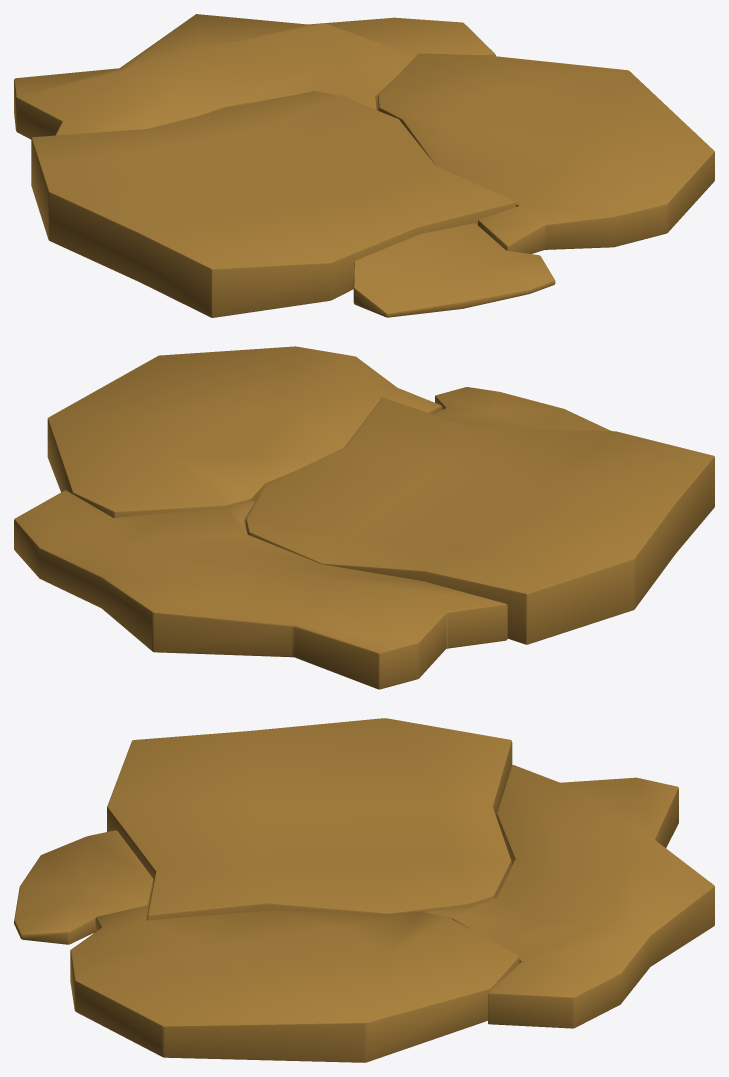
The model's file is solBase_MOD_v01.fbx.
3 renders of one model, top to bottom at view 1: azimuth 30°, elevation 25°; view 2: azimuth 150°, elevation 25°; view 3: azimuth 270°, elevation 25°, orthographic. The views are drawn at different scales.
Visible parts, largest first — view 1: Plane, Plane.015, Plane.016, Plane.020; view 2: Plane, Plane.016, Plane.015, Plane.020; view 3: Plane, Plane.015, Plane.016, Plane.020.
Boxes of the visible parts, box(x1,y1,x2,y2) form: Plane: box(31, 91, 515, 317); Plane.015: box(378, 53, 714, 253); Plane.016: box(14, 14, 495, 139); Plane.020: box(353, 223, 555, 317); Plane: box(246, 397, 714, 644); Plane.016: box(14, 490, 507, 689); Plane.015: box(47, 346, 442, 517); Plane.020: box(434, 387, 610, 430); Plane: box(107, 718, 512, 920); Plane.015: box(70, 905, 519, 1062); Plane.016: box(424, 765, 714, 1028); Plane.020: box(14, 830, 153, 944).
Size of the model in its own units: 1533 by 128 by 1548.
